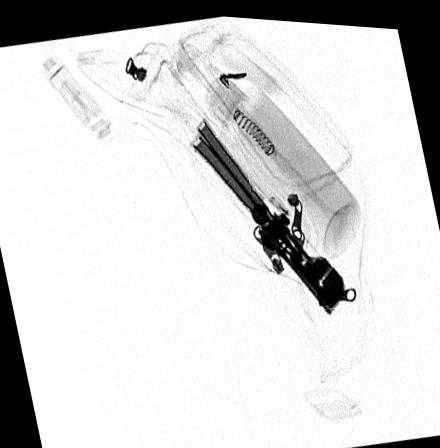Pliers: (191, 115, 346, 308)
